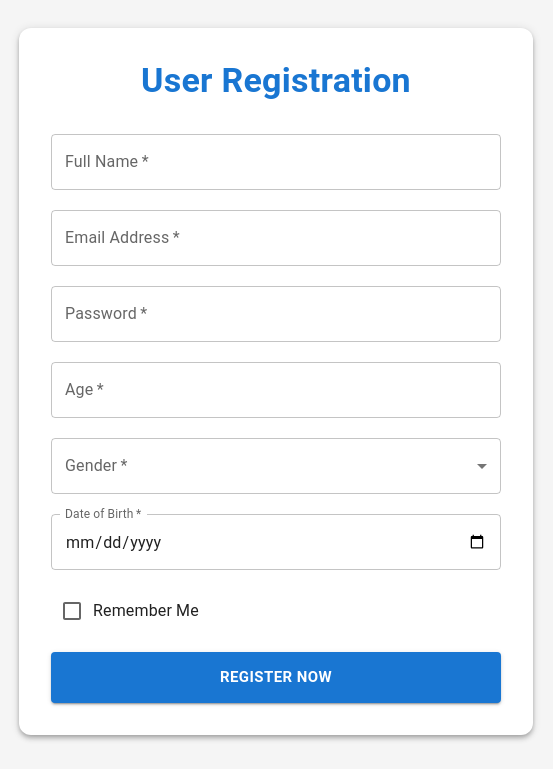
User Application Tests › Home Page - Registration Form › shows error message for short password
The width and height of the screenshot is (553, 769).
In the password field labelled "Password *": (276, 314) [51, 286, 501, 342], type "123"
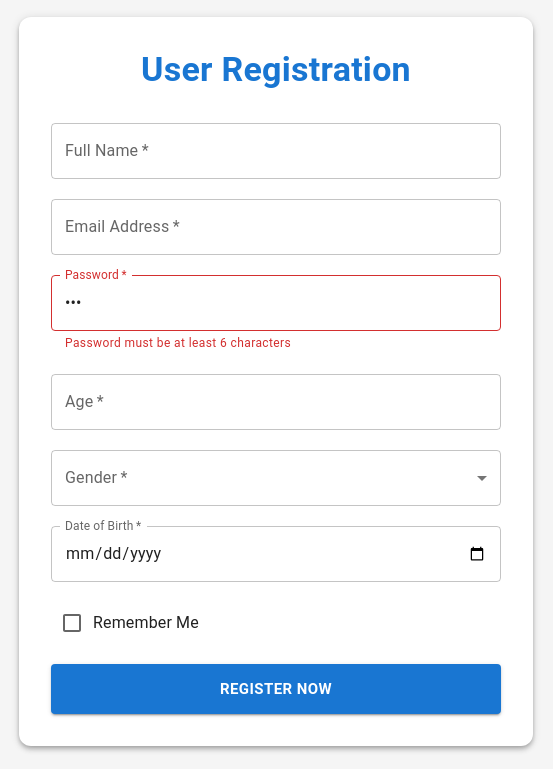
Now the text "Password must be at least 6 characters" is shown, box [65, 336, 291, 350]
